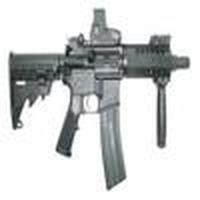gun: (6, 42, 196, 184)
